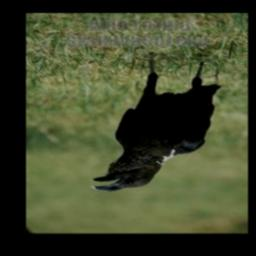Crow: (86, 48, 226, 196)
